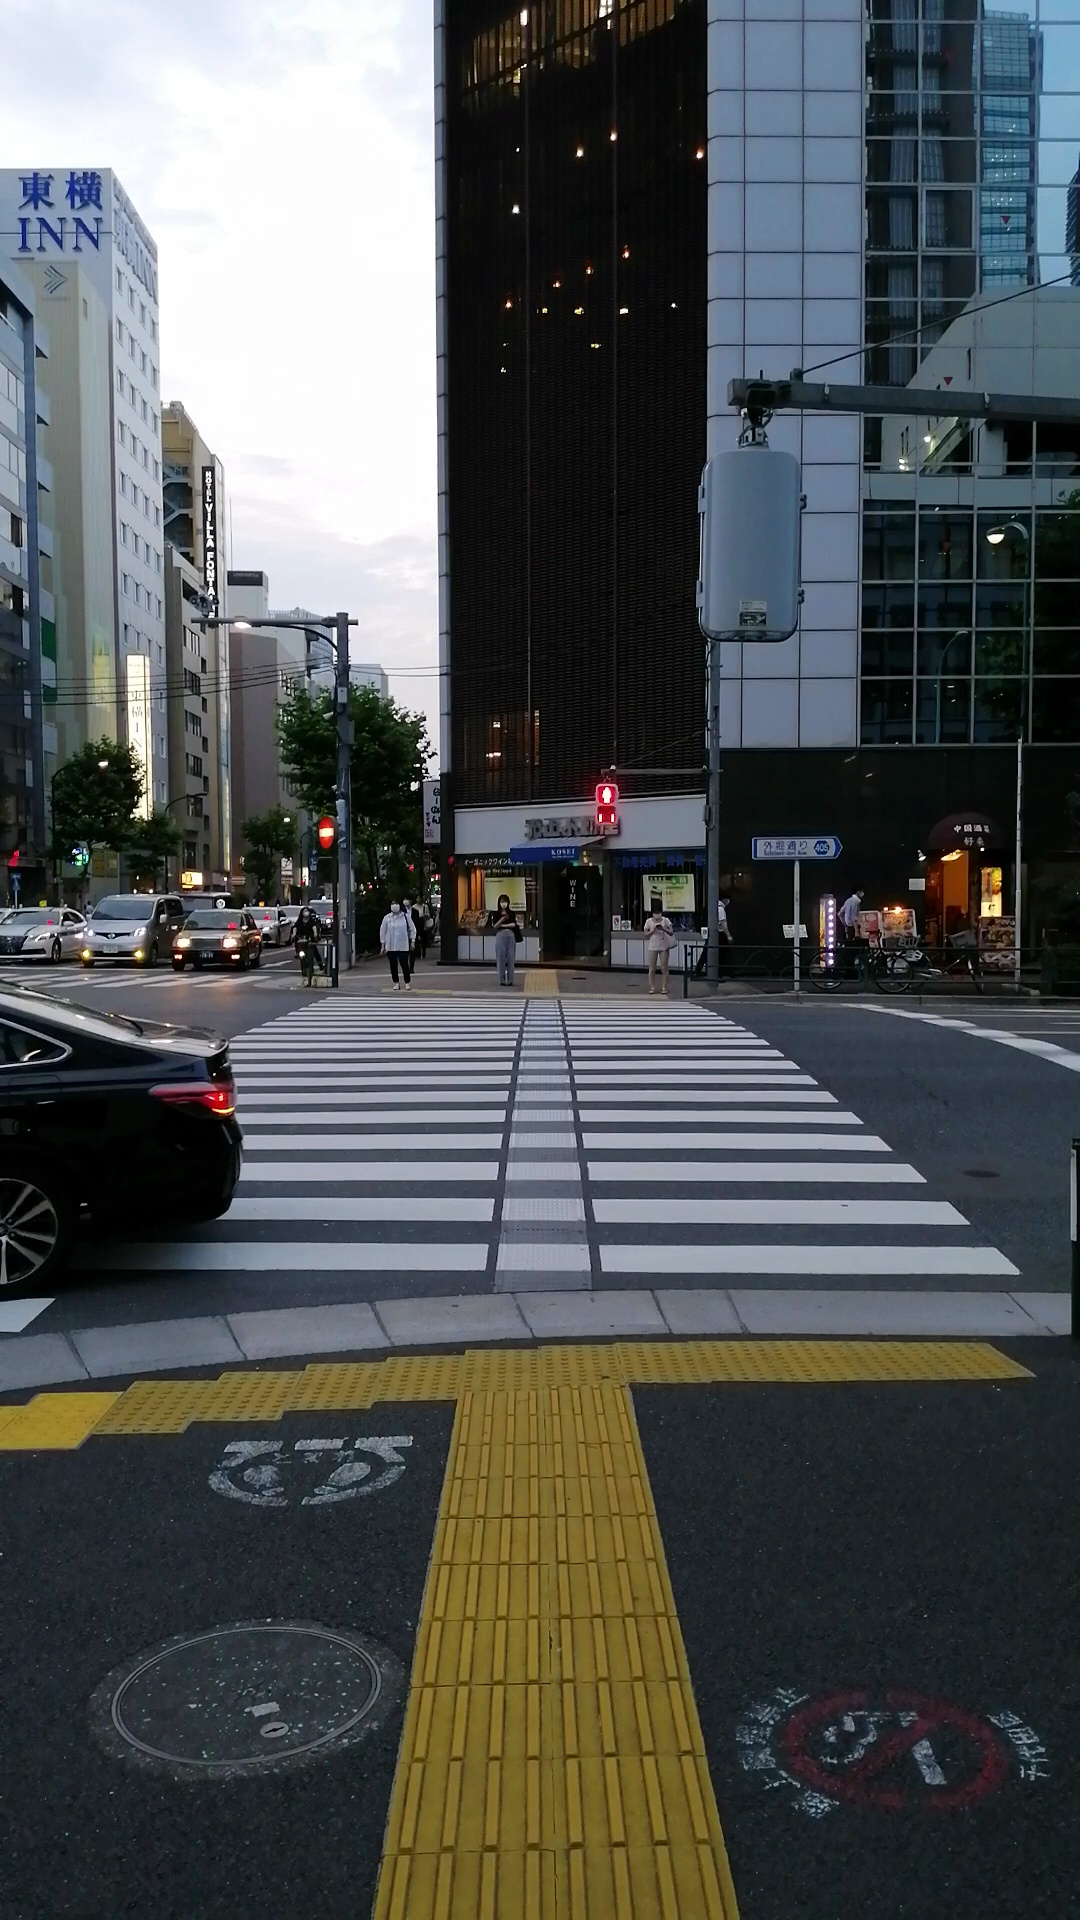red: (593, 782, 618, 828)
